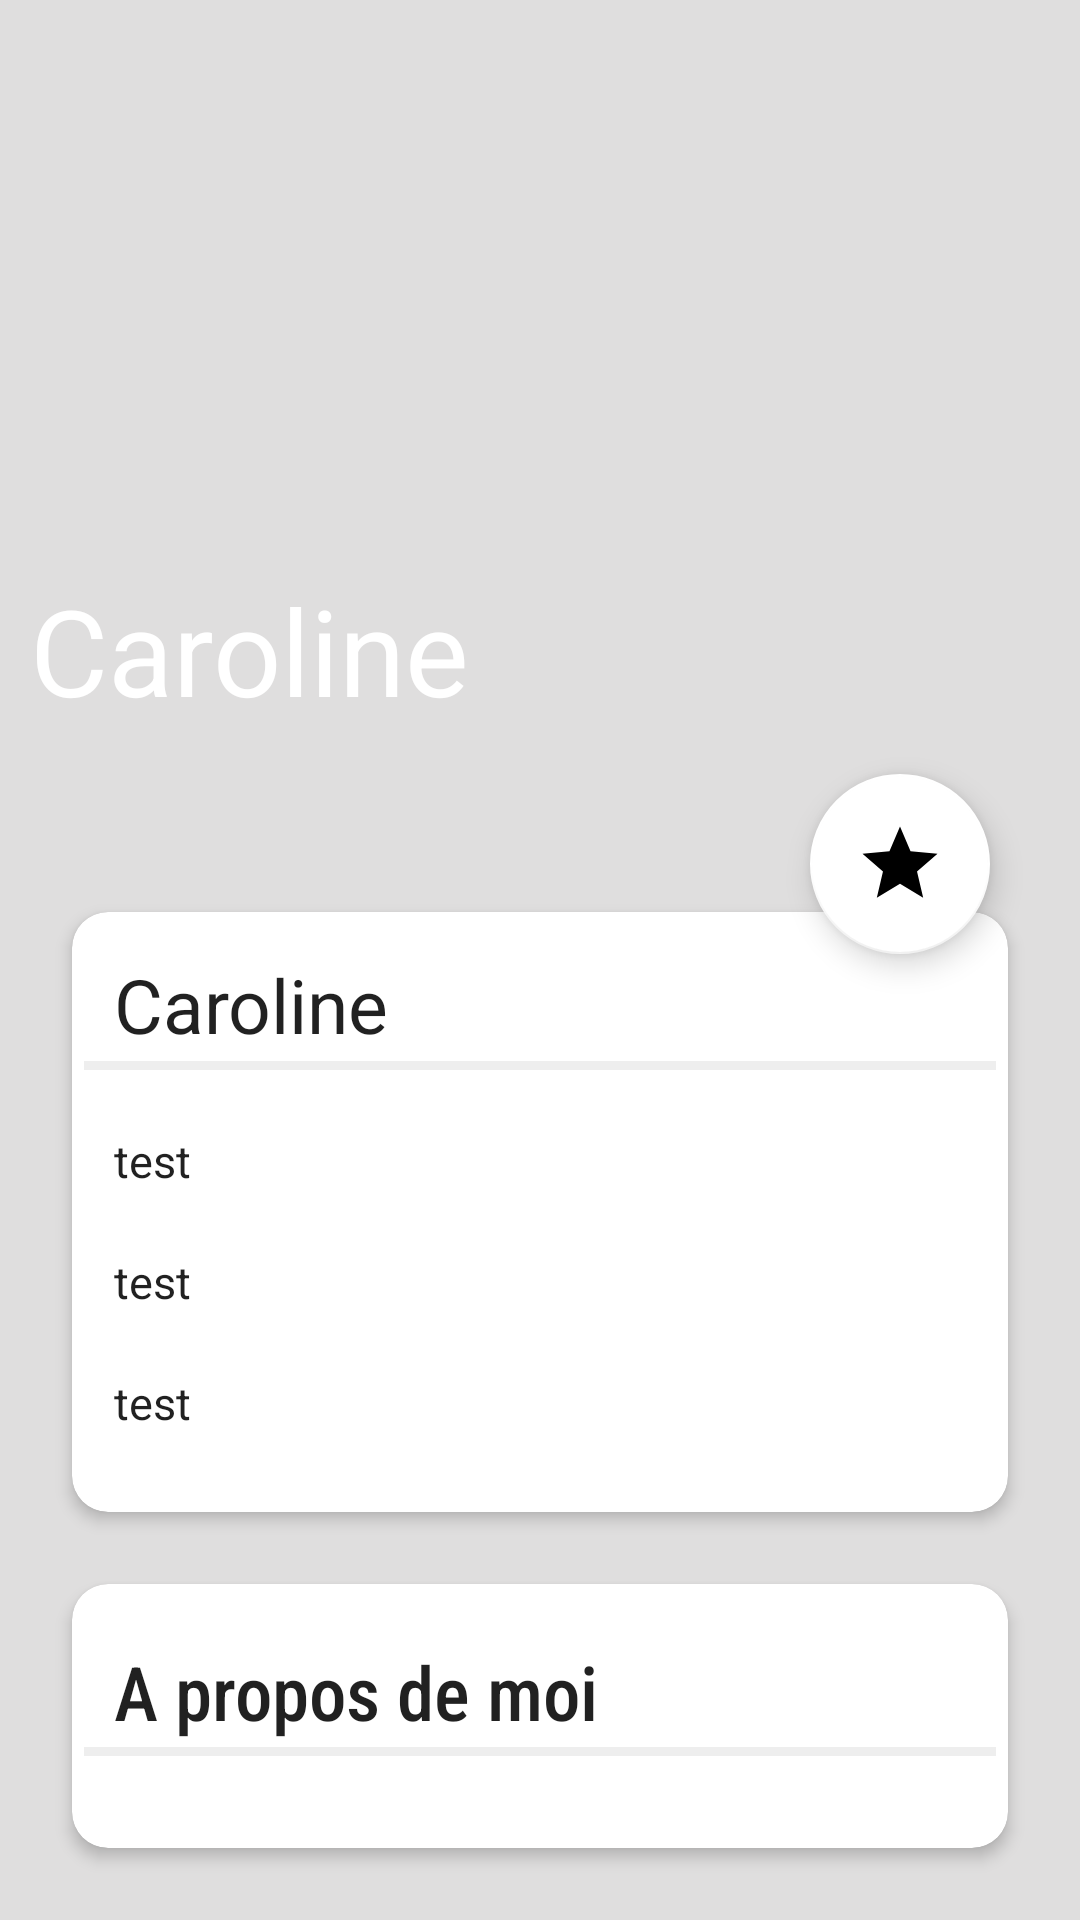

Named icons in this screenshot (1080w x 1920h) and their centers, (x,y):
star: (901,863)
